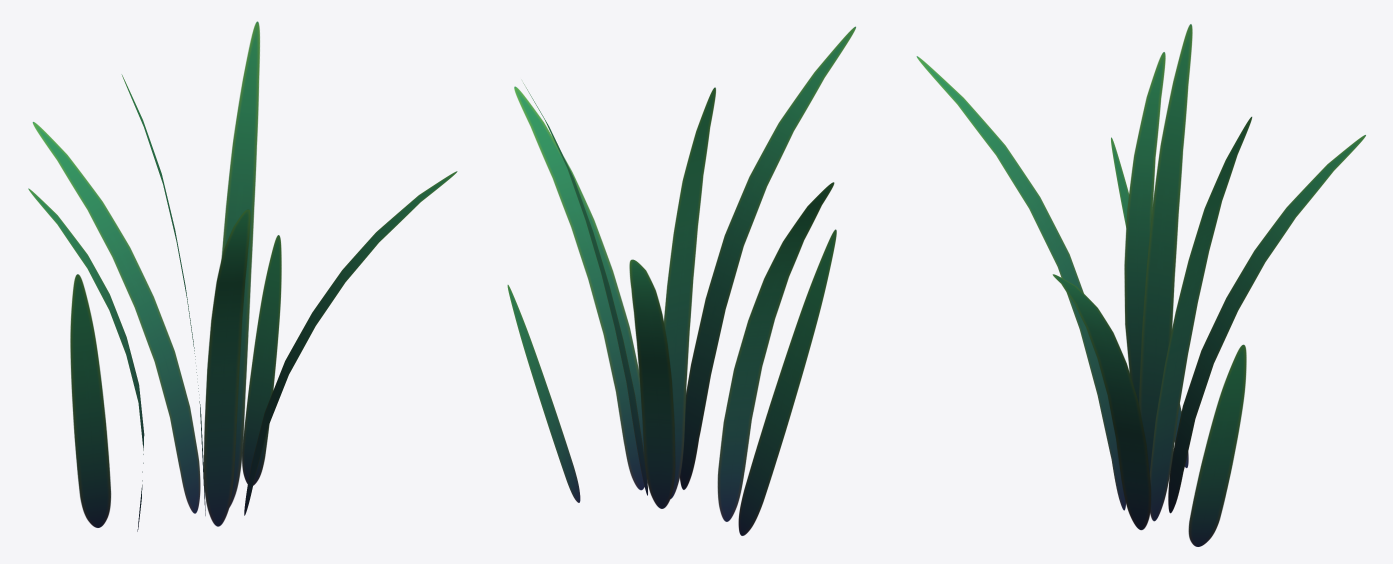
Rendered from herbe.glb.
3 views of the same model, side by side, from view 1: azimuth 30°, elevation 25°; view 2: azimuth 150°, elevation 25°; view 3: azimuth 270°, elevation 25° (orthographic). The views are drawn at different scales.
Parts seen in each view (by area): view 1: Grass:Grass_low1_Grass:Grass_MAT_0.002, Grass:Grass_low4_Grass:Grass_MAT_0.001, Grass:Grass_Master4_Grass:Grass_MAT_0.001, Grass:Grass_low5_Grass:Grass_MAT_0.001, Grass:Grass_Master5_Grass:Grass_MAT_0.001, Grass:Grass_low2_Grass:Grass_MAT_0.002, Grass:Grass_low14_Grass:Grass_MAT_0.001, Grass:Grass_low3_Grass:Grass_MAT_0.002; view 2: Grass:Grass_low1_Grass:Grass_MAT_0.002, Grass:Grass_low14_Grass:Grass_MAT_0.001, Grass:Grass_low2_Grass:Grass_MAT_0.002, Grass:Grass_low3_Grass:Grass_MAT_0.002, Grass:Grass_low4_Grass:Grass_MAT_0.001, Grass:Grass_Master4_Grass:Grass_MAT_0.001, Grass:Grass_Master5_Grass:Grass_MAT_0.001, Grass:Grass_low5_Grass:Grass_MAT_0.001; view 3: Grass:Grass_low3_Grass:Grass_MAT_0.002, Grass:Grass_low5_Grass:Grass_MAT_0.001, Grass:Grass_low2_Grass:Grass_MAT_0.002, Grass:Grass_low14_Grass:Grass_MAT_0.001, Grass:Grass_low4_Grass:Grass_MAT_0.001, Grass:Grass_low1_Grass:Grass_MAT_0.002, Grass:Grass_Master5_Grass:Grass_MAT_0.001, Grass:Grass_Master4_Grass:Grass_MAT_0.001.
Boxes of the visible parts, box(x1,y1,x2,y2) form: Grass:Grass_low1_Grass:Grass_MAT_0.002: box(203, 209, 250, 526); Grass:Grass_low4_Grass:Grass_MAT_0.001: box(32, 122, 200, 513); Grass:Grass_Master4_Grass:Grass_MAT_0.001: box(70, 274, 111, 527); Grass:Grass_low5_Grass:Grass_MAT_0.001: box(221, 21, 259, 507); Grass:Grass_Master5_Grass:Grass_MAT_0.001: box(242, 235, 281, 485); Grass:Grass_low2_Grass:Grass_MAT_0.002: box(244, 171, 457, 515); Grass:Grass_low14_Grass:Grass_MAT_0.001: box(28, 188, 144, 531); Grass:Grass_low3_Grass:Grass_MAT_0.002: box(121, 74, 205, 515); Grass:Grass_low1_Grass:Grass_MAT_0.002: box(680, 26, 855, 489); Grass:Grass_low14_Grass:Grass_MAT_0.001: box(717, 182, 834, 521); Grass:Grass_low2_Grass:Grass_MAT_0.002: box(514, 86, 644, 490); Grass:Grass_low3_Grass:Grass_MAT_0.002: box(664, 87, 715, 498); Grass:Grass_low4_Grass:Grass_MAT_0.001: box(629, 259, 675, 508); Grass:Grass_Master4_Grass:Grass_MAT_0.001: box(738, 229, 836, 535); Grass:Grass_Master5_Grass:Grass_MAT_0.001: box(507, 285, 580, 502); Grass:Grass_low5_Grass:Grass_MAT_0.001: box(523, 83, 647, 495); Grass:Grass_low3_Grass:Grass_MAT_0.002: box(1139, 24, 1192, 473); Grass:Grass_low5_Grass:Grass_MAT_0.001: box(1149, 116, 1252, 521); Grass:Grass_low2_Grass:Grass_MAT_0.002: box(1052, 274, 1151, 530); Grass:Grass_low14_Grass:Grass_MAT_0.001: box(1124, 52, 1165, 402); Grass:Grass_low4_Grass:Grass_MAT_0.001: box(1168, 135, 1365, 513); Grass:Grass_low1_Grass:Grass_MAT_0.002: box(916, 56, 1125, 510); Grass:Grass_Master5_Grass:Grass_MAT_0.001: box(1188, 344, 1246, 546); Grass:Grass_Master4_Grass:Grass_MAT_0.001: box(1111, 137, 1188, 467).
Bounding box in the file's own units: 12.27 × 13.48 × 12.38.
Materials: 1 (1 with a texture image).
